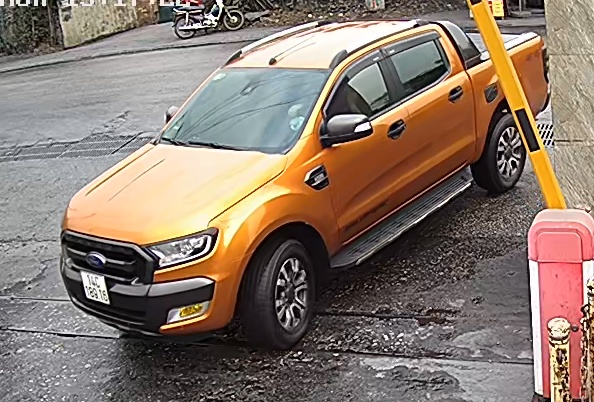vehicle plate: (77, 266, 112, 307)
